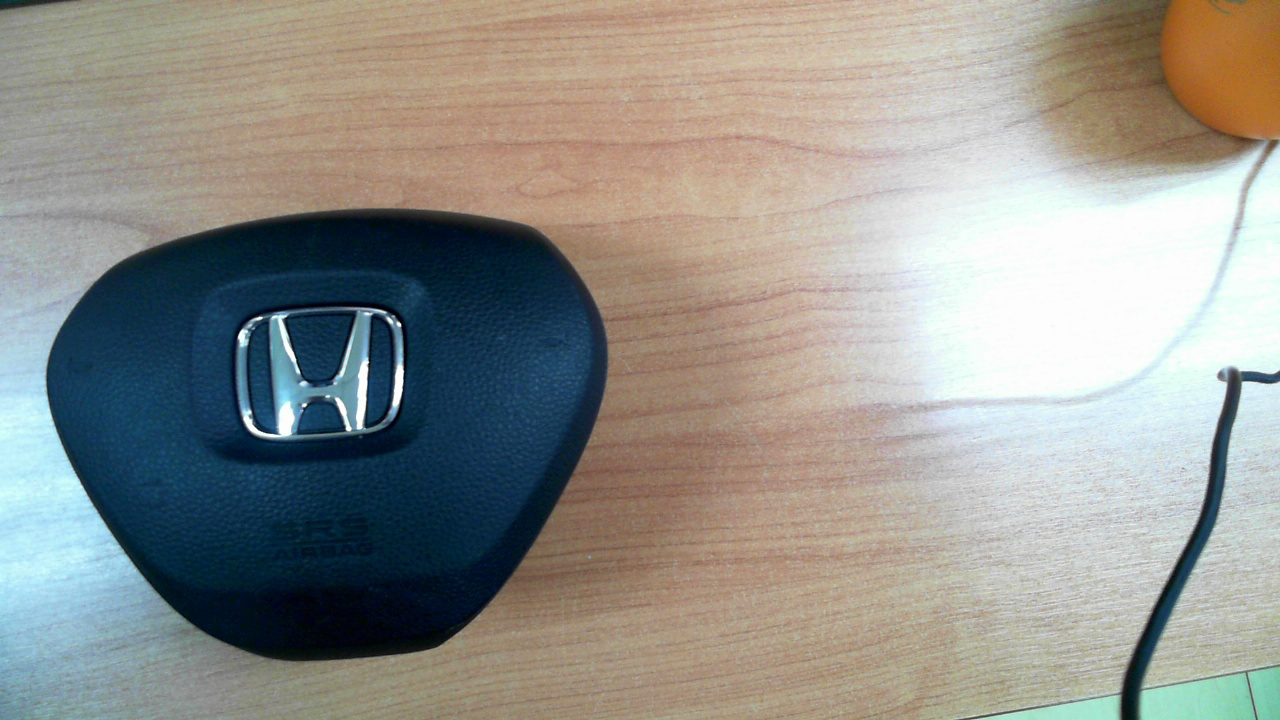Airbag: (46, 207, 608, 662)
Honda: (234, 305, 405, 440)
